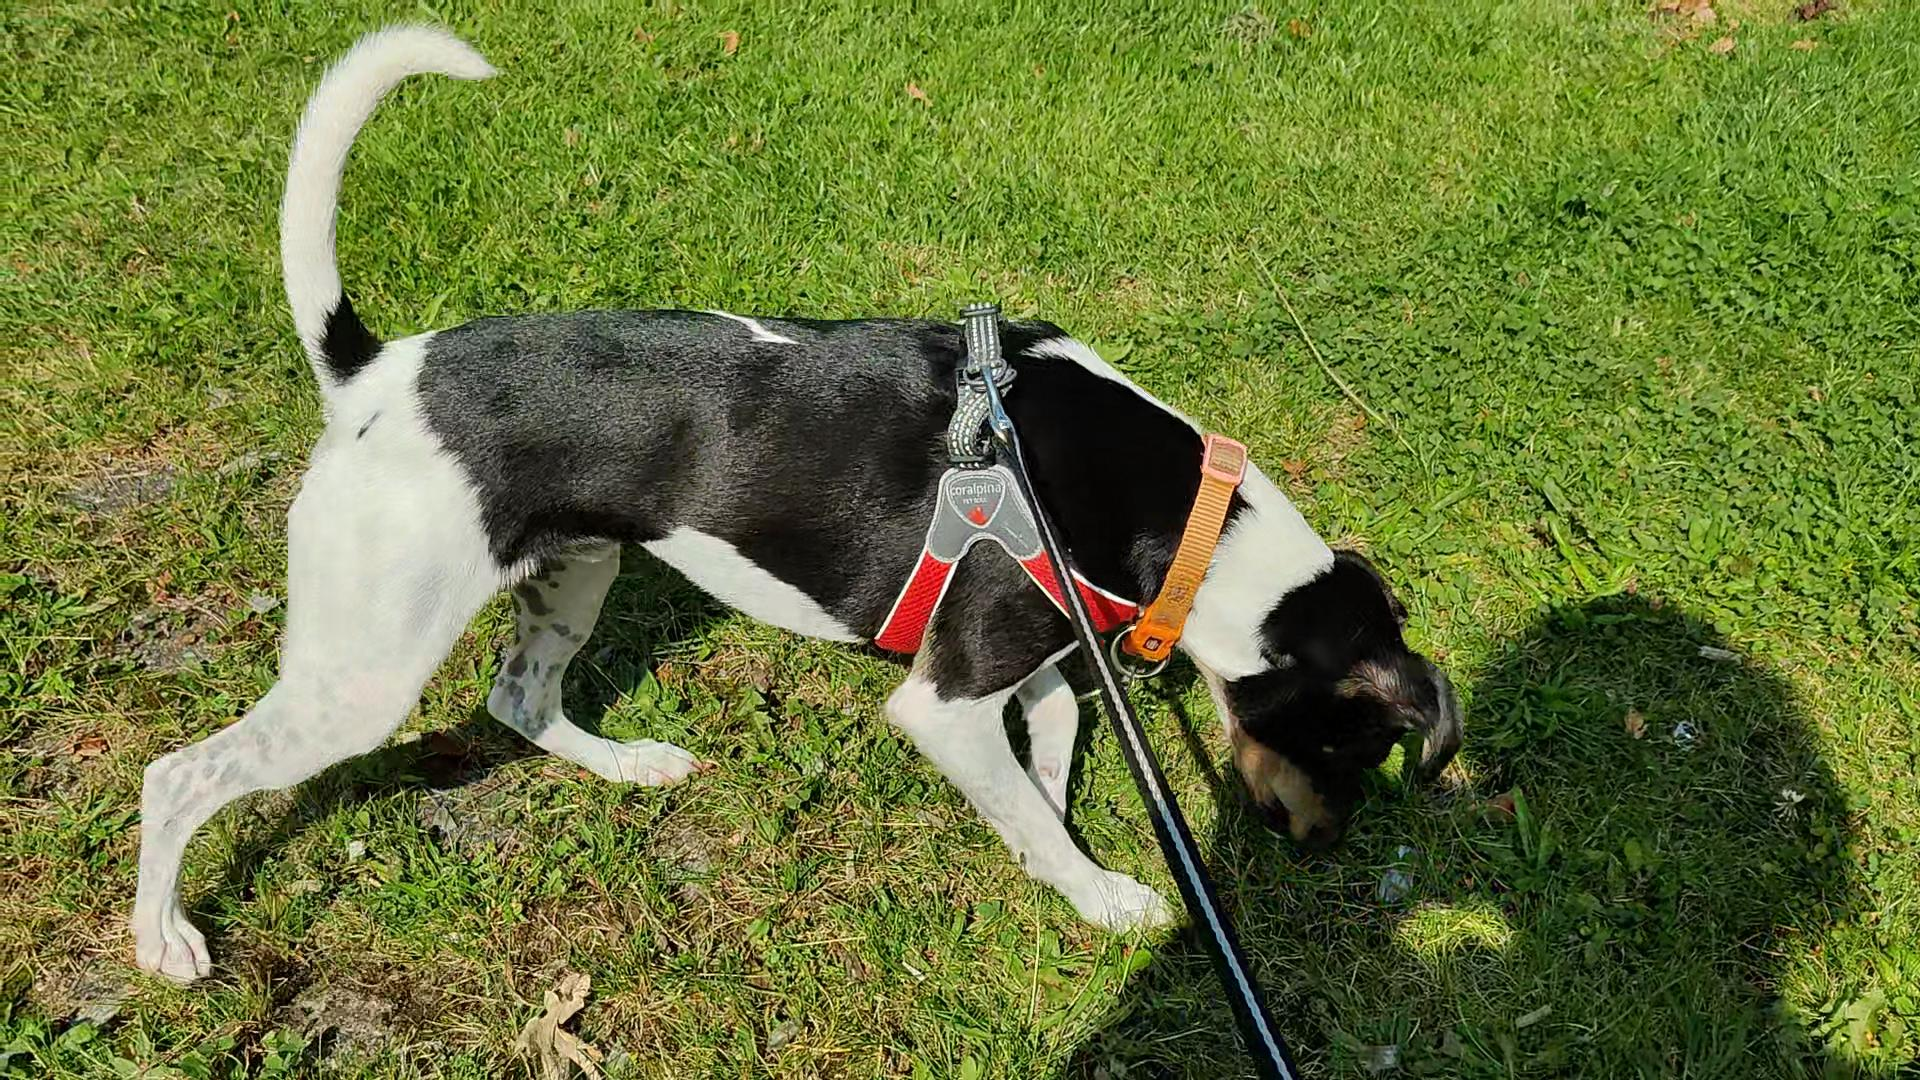Dog: (125, 15, 1470, 996)
